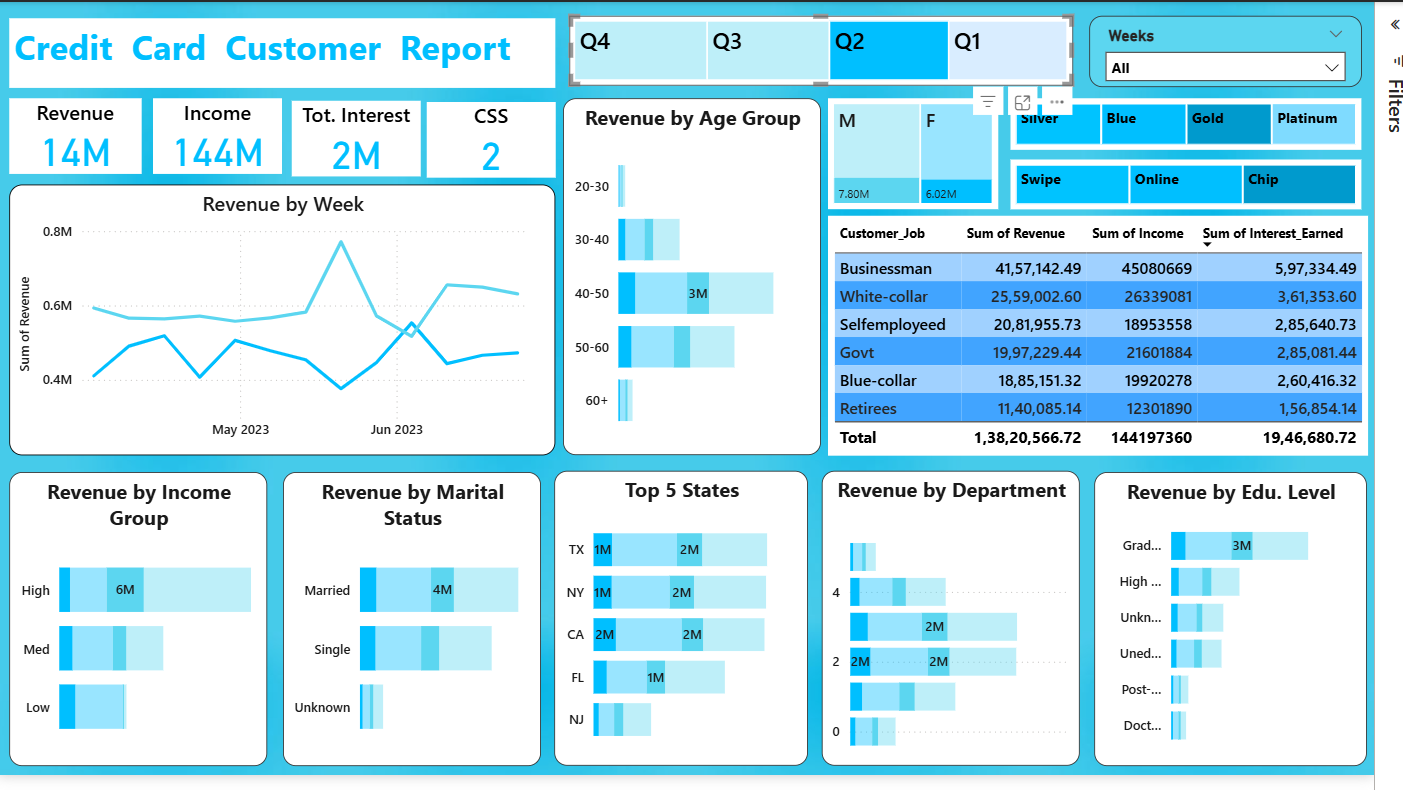

Layout of this report page (visuals, bound fields, positions):
{"tool":"powerbi","page":{"name":"Page 3","canvas":[1280,720],"ordinal":2},"visuals":[{"type":"textbox","box":[10,15,508.3,65],"z":0},{"type":"barChart","title":" Revenue by Income Group","fields":{"Y":["Sum(ccdb cc_detail.Revenue)"],"Category":["ccdb cust_detail.income group"],"Series":["ccdb cust_detail.Gender"]},"box":[10,436.7,240,273.3],"z":1000},{"type":"tableEx","fields":{"Values":["ccdb cust_detail.Customer_Job","Sum(ccdb cc_detail.Revenue)","Sum(ccdb cust_detail.Income)","Sum(ccdb cc_detail.Interest_Earned)"]},"box":[771.7,198.3,502,223.3],"z":2000},{"type":"card","title":"Tot. Interest ","fields":{"Values":["Sum(ccdb cc_detail.Interest_Earned)"]},"box":[272.9,91.4,120,70],"z":3000},{"type":"card","title":"Revenue","fields":{"Values":["Sum(ccdb cc_detail.Revenue)"]},"box":[10,90,122.9,70],"z":4000},{"type":"card","title":"Income","fields":{"Values":["Sum(ccdb cust_detail.Income)"]},"box":[144.3,90,120,70],"z":5000},{"type":"card","title":"CSS","fields":{"Values":["Avg(ccdb cust_detail.Cust_Satisfaction_Score)"]},"box":[398.6,92.9,120,70],"z":6000},{"type":"slicer","fields":{"Values":["ccdb cc_detail.Week_Start_Date"]},"box":[1015,13.3,253.3,66.7],"z":7000},{"type":"treemap","fields":{"Group":["ccdb cc_detail.Qtr"],"Values":["Avg(ccdb cc_detail.Client_Num)"]},"box":[531.7,13.3,468.3,65],"z":8000},{"type":"treemap","fields":{"Group":["ccdb cc_detail.Card_Category"],"Values":["Avg(ccdb cc_detail.Client_Num)"]},"box":[941.7,90,326.7,48.3],"z":9000},{"type":"lineChart","title":"Revenue by Week","fields":{"Y":["Sum(ccdb cc_detail.Revenue)"],"Series":["ccdb cust_detail.Gender"],"Category":["ccdb cc_detail.Week_Start_Date.Variation.Date Hierarchy.Year","ccdb cc_detail.Week_Start_Date.Variation.Date Hierarchy.Month","ccdb cc_detail.Week_Start_Date.Variation.Date Hierarchy.Day"]},"box":[10,170,508.3,251.7],"z":10000},{"type":"treemap","fields":{"Group":["ccdb cust_detail.Gender"],"Values":["Sum(ccdb cc_detail.Revenue)"]},"box":[771.7,90,158.3,103.3],"z":11000},{"type":"barChart","title":" Revenue by Age Group","fields":{"Y":["Sum(ccdb cc_detail.Revenue)"],"Category":["ccdb cust_detail.age group"],"Series":["ccdb cust_detail.Gender"]},"box":[526,90,240,332],"z":12000},{"type":"barChart","title":" Revenue by Department ","fields":{"Y":["Sum(ccdb cc_detail.Revenue)"],"Category":["ccdb cust_detail.Dependent_Count"],"Series":["ccdb cust_detail.Gender"]},"box":[766,436,240,274],"z":13000},{"type":"barChart","title":" Revenue by Edu. Level","fields":{"Y":["Sum(ccdb cc_detail.Revenue)"],"Category":["ccdb cust_detail.Education_Level"],"Series":["ccdb cust_detail.Gender"]},"box":[1020,436.7,253.3,273.3],"z":14000},{"type":"barChart","title":"Top 5 States","fields":{"Y":["Sum(ccdb cc_detail.Revenue)"],"Category":["ccdb cust_detail.State_cd"],"Series":["ccdb cust_detail.Gender"]},"box":[518,436,236,274],"z":15000},{"type":"barChart","title":" Revenue by Marital Status","fields":{"Y":["Sum(ccdb cc_detail.Revenue)"],"Category":["ccdb cust_detail.Marital_Status"],"Series":["ccdb cust_detail.Gender"]},"box":[265,436.7,240,273.3],"z":16000},{"type":"treemap","fields":{"Group":["ccdb cc_detail.Use_Chip"],"Values":["Avg(ccdb cc_detail.Client_Num)"]},"box":[941.7,146.7,326.7,46.7],"z":17000}]}

Visuals, with their boxes on the page's 1280x720 design canvas (x1, y1, x2, y2). These are canvas units, not pixel positions in the 1403x790 screenshot, which may show the page scaled, cropped or inside an application window:
textbox: <bbox>10, 15, 518, 80</bbox>
" Revenue by Income Group" barChart: <bbox>10, 437, 250, 710</bbox>
tableEx - ccdb cust_detail.Customer_Job x Sum(ccdb cc_detail.Revenue): <bbox>772, 198, 1274, 422</bbox>
"Tot. Interest " card: <bbox>273, 91, 393, 161</bbox>
"Revenue" card: <bbox>10, 90, 133, 160</bbox>
"Income" card: <bbox>144, 90, 264, 160</bbox>
"CSS" card: <bbox>399, 93, 519, 163</bbox>
slicer - ccdb cc_detail.Week_Start_Date: <bbox>1015, 13, 1268, 80</bbox>
treemap - ccdb cc_detail.Qtr x Avg(ccdb cc_detail.Client_Num): <bbox>532, 13, 1000, 78</bbox>
treemap - ccdb cc_detail.Card_Category x Avg(ccdb cc_detail.Client_Num): <bbox>942, 90, 1268, 138</bbox>
"Revenue by Week" lineChart: <bbox>10, 170, 518, 422</bbox>
treemap - ccdb cust_detail.Gender x Sum(ccdb cc_detail.Revenue): <bbox>772, 90, 930, 193</bbox>
" Revenue by Age Group" barChart: <bbox>526, 90, 766, 422</bbox>
" Revenue by Department " barChart: <bbox>766, 436, 1006, 710</bbox>
" Revenue by Edu. Level" barChart: <bbox>1020, 437, 1273, 710</bbox>
"Top 5 States" barChart: <bbox>518, 436, 754, 710</bbox>
" Revenue by Marital Status" barChart: <bbox>265, 437, 505, 710</bbox>
treemap - ccdb cc_detail.Use_Chip x Avg(ccdb cc_detail.Client_Num): <bbox>942, 147, 1268, 193</bbox>
